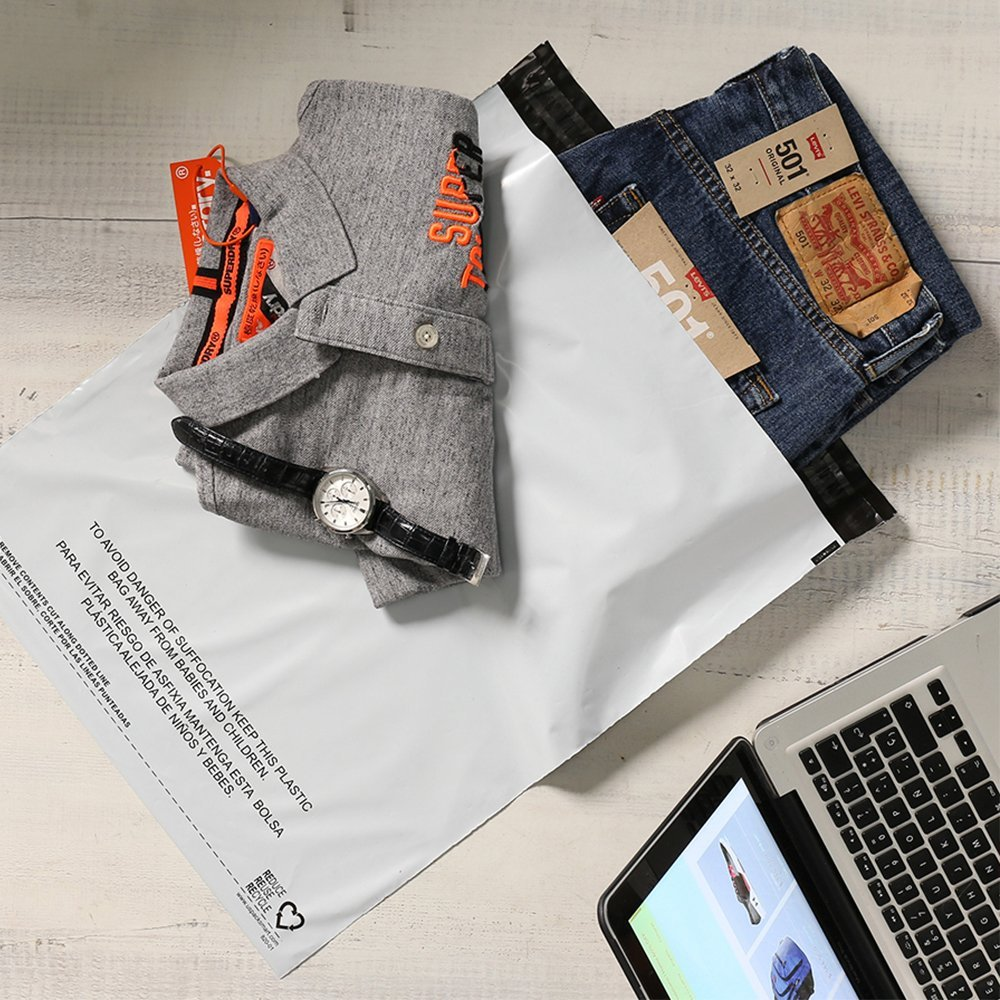Parcel: (0, 44, 884, 974)
